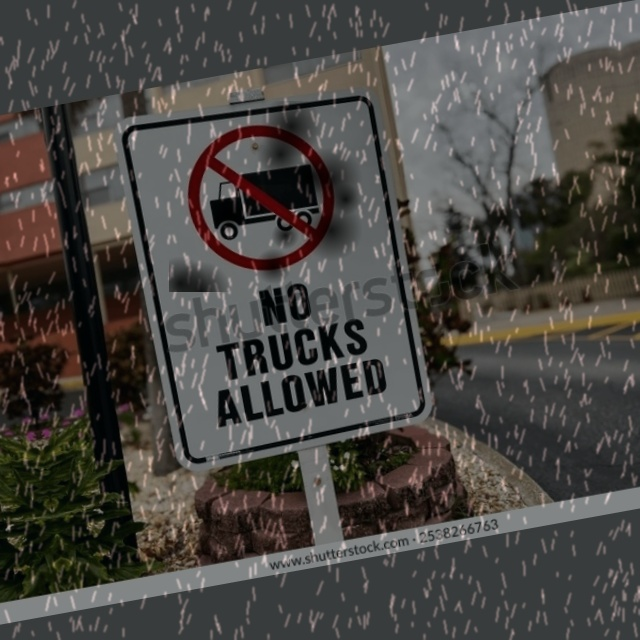Truck_Prohibited: (169, 101, 364, 292)
